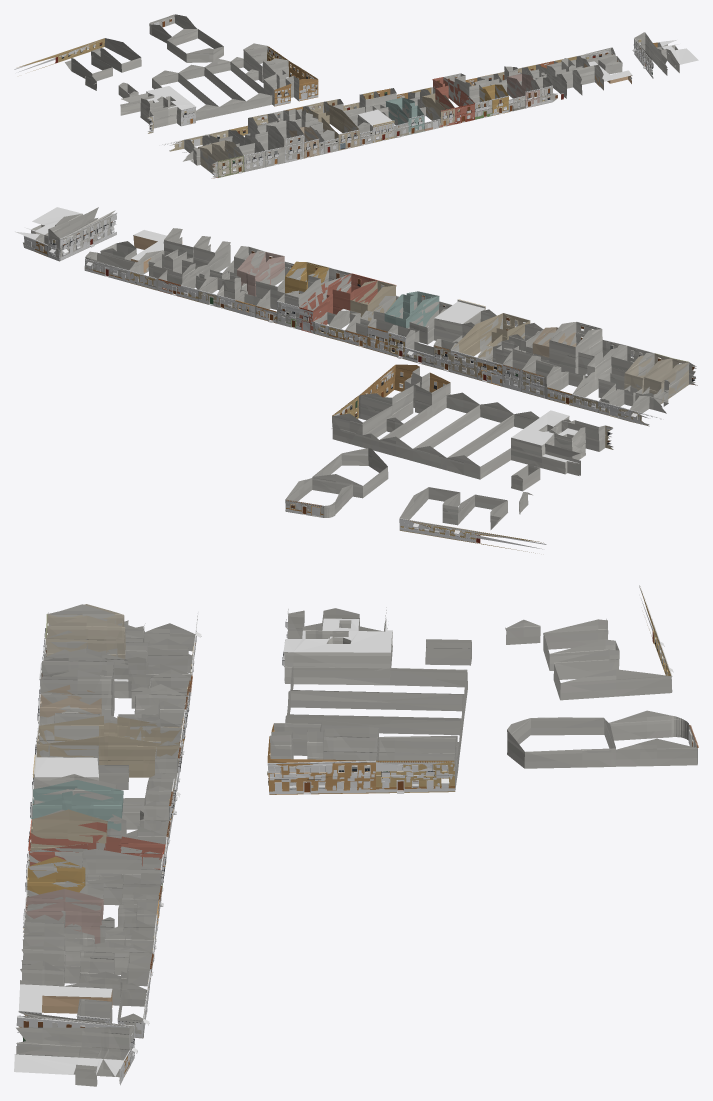
The model's file is zona_2_-1.glb.
3 views of the same model, one above another, from view 1: azimuth 30°, elevation 25°; view 2: azimuth 150°, elevation 25°; view 3: azimuth 270°, elevation 25° (orthographic). The views are drawn at different scales.
Visible parts, largest first — view 1: z_casas_2_-1, z_fachadas_2_-1, z_casas_planas_2_-1; view 2: z_casas_2_-1, z_fachadas_2_-1, z_casas_planas_2_-1; view 3: z_casas_2_-1, z_casas_planas_2_-1, z_fachadas_2_-1.
Boxes of the visible parts, <box> form: z_casas_2_-1: <box>17,14,679,177</box>; z_fachadas_2_-1: <box>14,15,667,178</box>; z_casas_planas_2_-1: <box>120,40,698,142</box>; z_casas_2_-1: <box>35,207,696,553</box>; z_fachadas_2_-1: <box>24,212,697,549</box>; z_casas_planas_2_-1: <box>15,207,587,475</box>; z_casas_2_-1: <box>16,588,697,1076</box>; z_casas_planas_2_-1: <box>14,618,392,1086</box>; z_fachadas_2_-1: <box>16,585,698,1084</box>.
Bounding box in the file's own units: 223 × 12.06 × 130.
